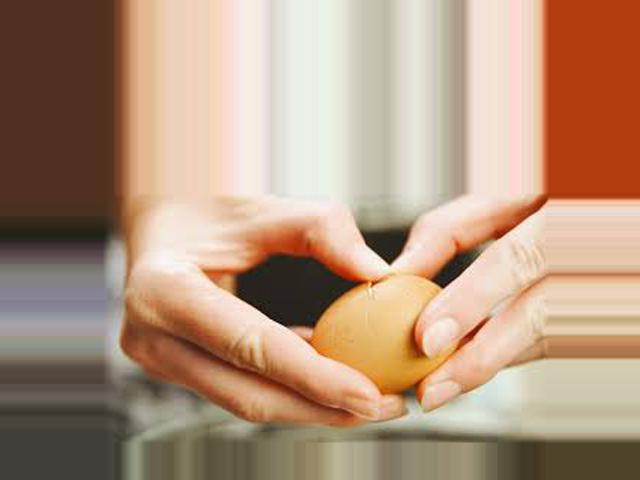egg: (312, 273, 460, 396)
